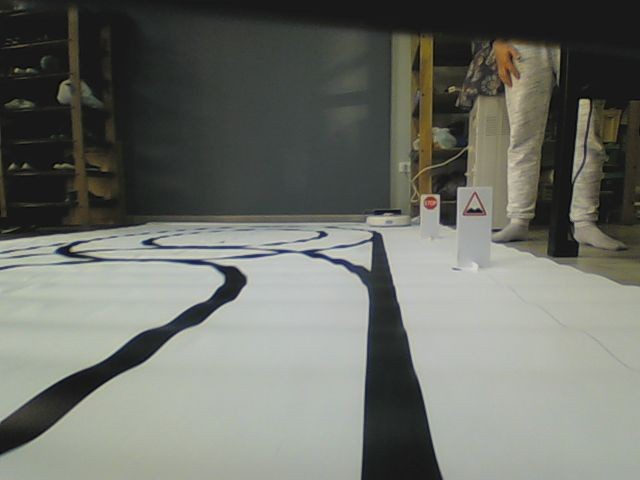Nerov: (461, 190, 487, 217)
